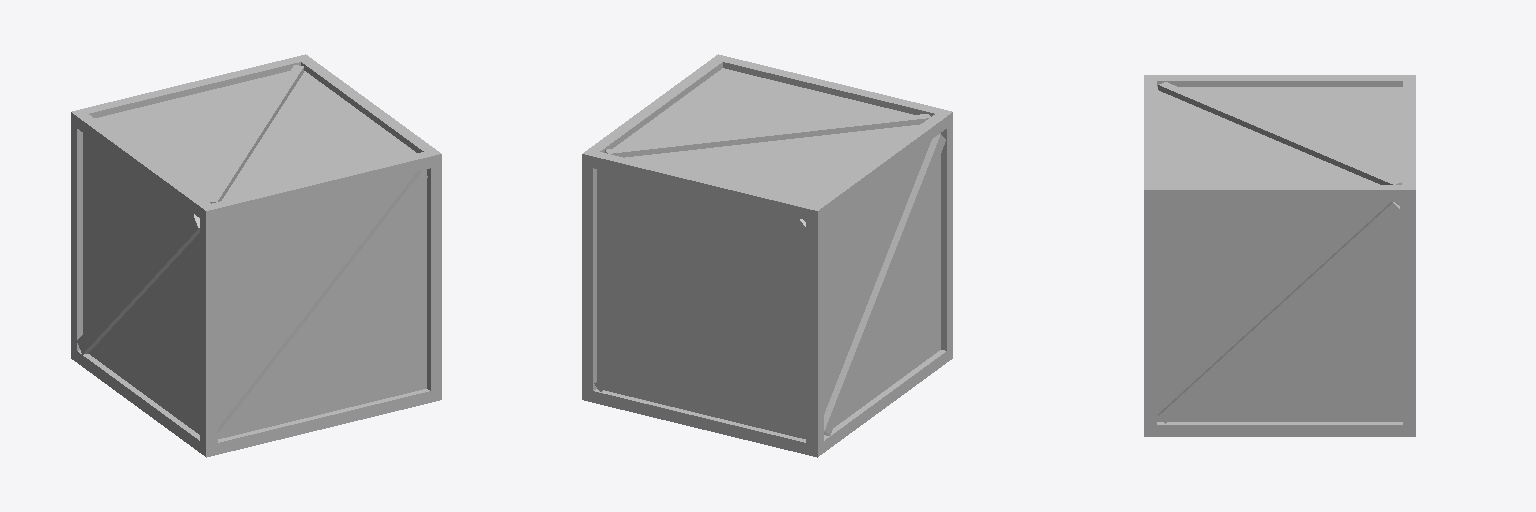
Rendered from empty box.obj.
3 views of the same model, side by side, from view 1: azimuth 30°, elevation 25°; view 2: azimuth 150°, elevation 25°; view 3: azimuth 270°, elevation 25° (orthographic).
Parts seen in each view (by area): view 1: Cube; view 2: Cube; view 3: Cube.
Part boxes in pixels (left/top/right/bottom): Cube: left=71, top=54, right=441, bottom=457; Cube: left=582, top=54, right=952, bottom=457; Cube: left=1144, top=75, right=1415, bottom=436.
Size of the model in its own units: 2 by 2 by 2.